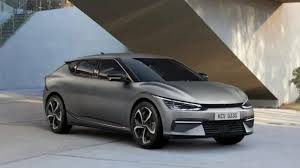Honda Ioniq: (37, 48, 260, 154)
